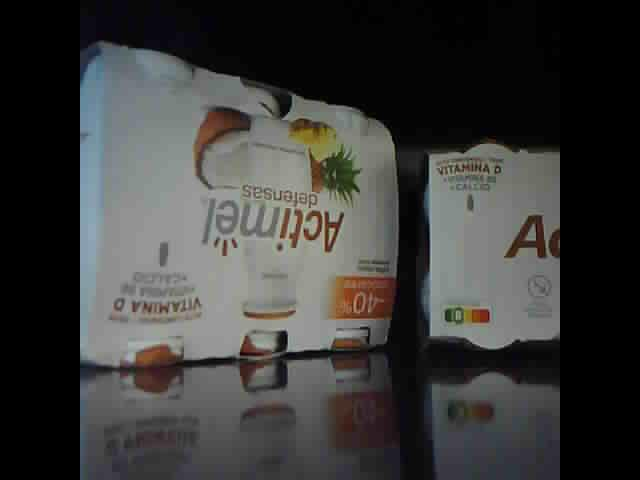actimel: (81, 38, 399, 369), (417, 140, 559, 353)
